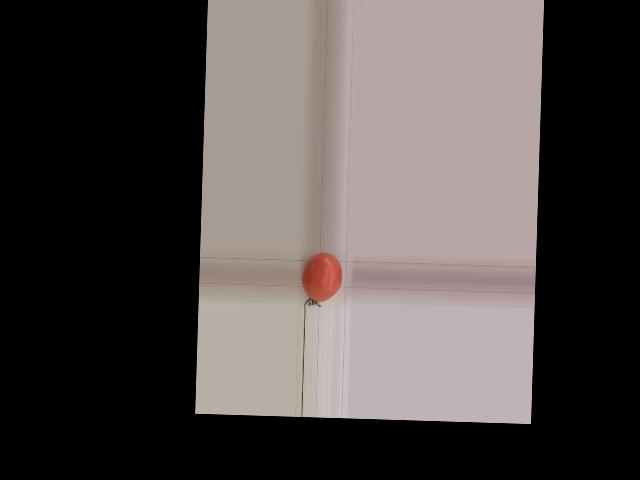tomato: (301, 252, 342, 302)
